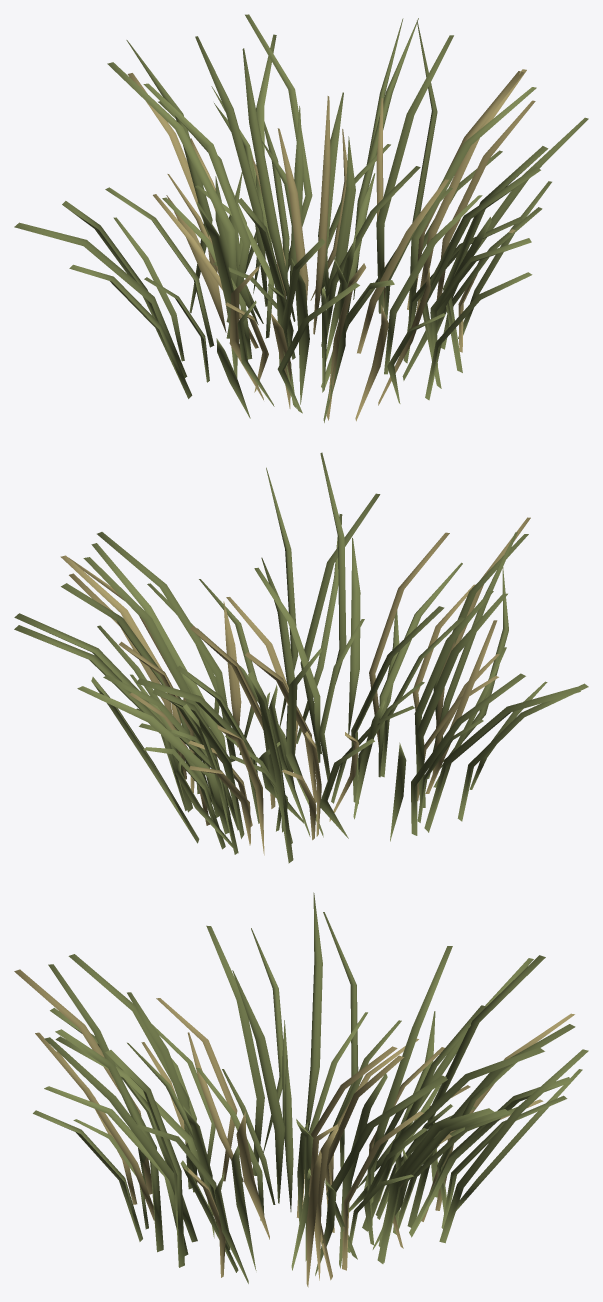
Rendered from Herbes_Incline_LOD0.fbx.
3 views of the same model, one above another, from view 1: azimuth 30°, elevation 25°; view 2: azimuth 150°, elevation 25°; view 3: azimuth 270°, elevation 25° (orthographic). The views are drawn at different scales.
Parts seen in each view (by area): view 1: Herbes_Incline; view 2: Herbes_Incline; view 3: Herbes_Incline.
Boxes of the visible parts, x1,y1,x2,y2 form: Herbes_Incline: [14, 14, 588, 422]; Herbes_Incline: [14, 452, 588, 863]; Herbes_Incline: [14, 892, 588, 1287].
Bounding box in the file's own units: 94.34 × 41.31 × 87.52.
